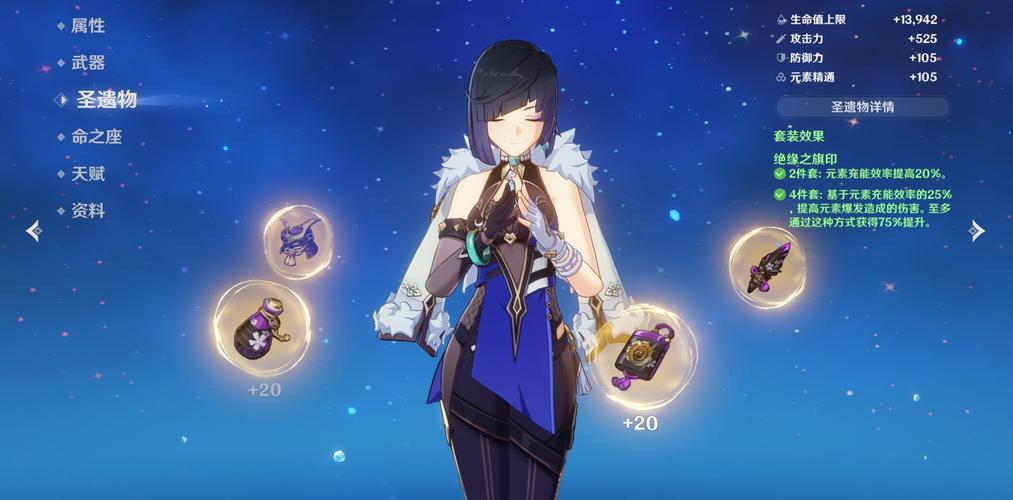夜兰: (424, 38, 607, 498)
